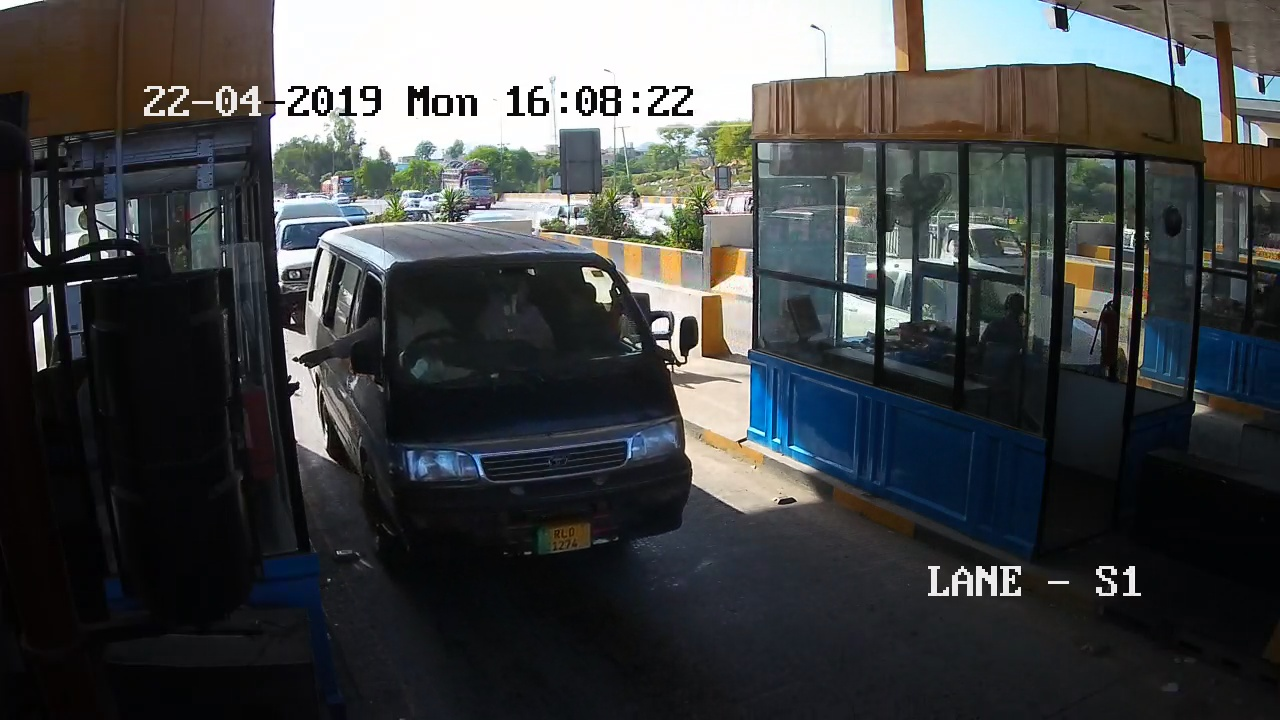Number Plate (Car): (536, 523, 592, 556)
